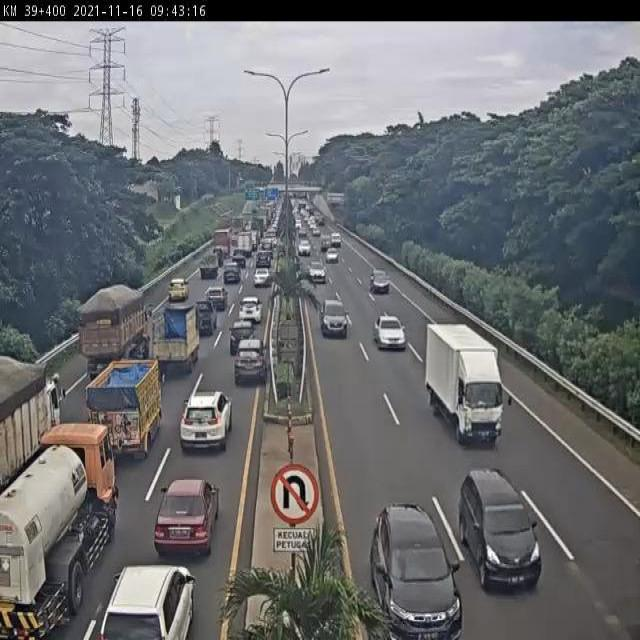car: (455, 466, 544, 598), (375, 506, 464, 638), (102, 565, 193, 640), (155, 480, 218, 557), (179, 388, 236, 456), (232, 336, 267, 388), (320, 292, 352, 344), (376, 311, 403, 348), (186, 306, 213, 342), (229, 319, 255, 353), (196, 256, 218, 284), (165, 279, 189, 304), (240, 299, 263, 325), (204, 288, 225, 315), (371, 269, 391, 296), (251, 268, 270, 291), (219, 267, 239, 288), (254, 259, 271, 280), (308, 255, 323, 277), (227, 256, 243, 275), (260, 242, 273, 262), (322, 247, 337, 264), (205, 254, 217, 274)
small truck: (213, 228, 232, 259), (235, 234, 252, 262)
truck-l-: (0, 357, 64, 496), (78, 286, 156, 390)
truck-m-: (1, 422, 119, 638), (422, 320, 507, 449), (88, 363, 162, 461), (146, 303, 200, 380)
